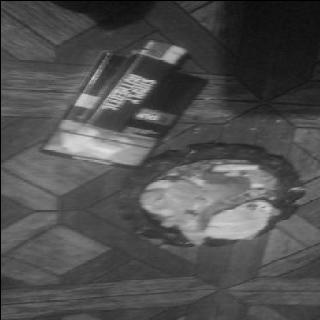objects: (40, 51, 206, 168)
